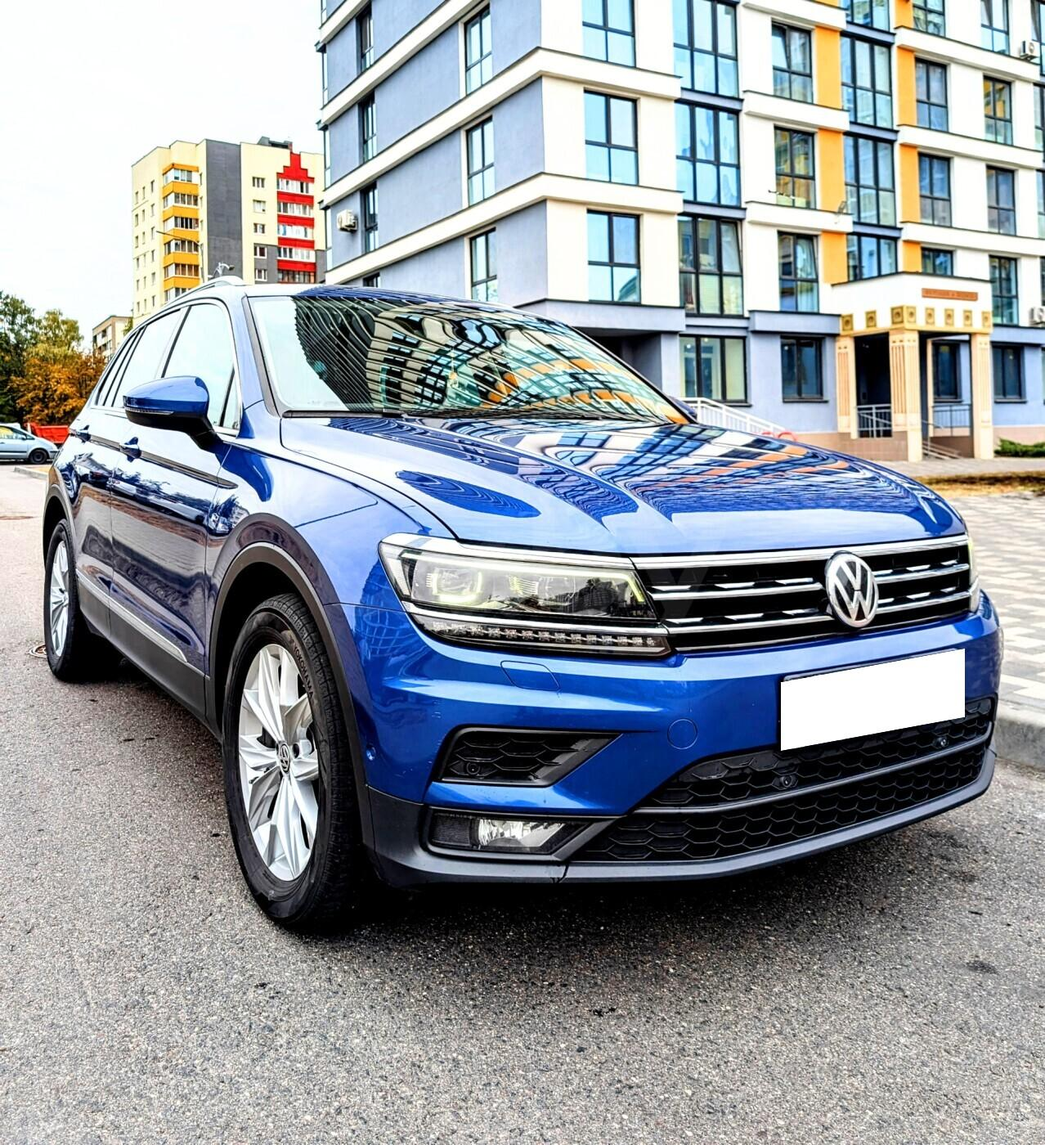Tiguan_2016-2021: (38, 280, 998, 949)
